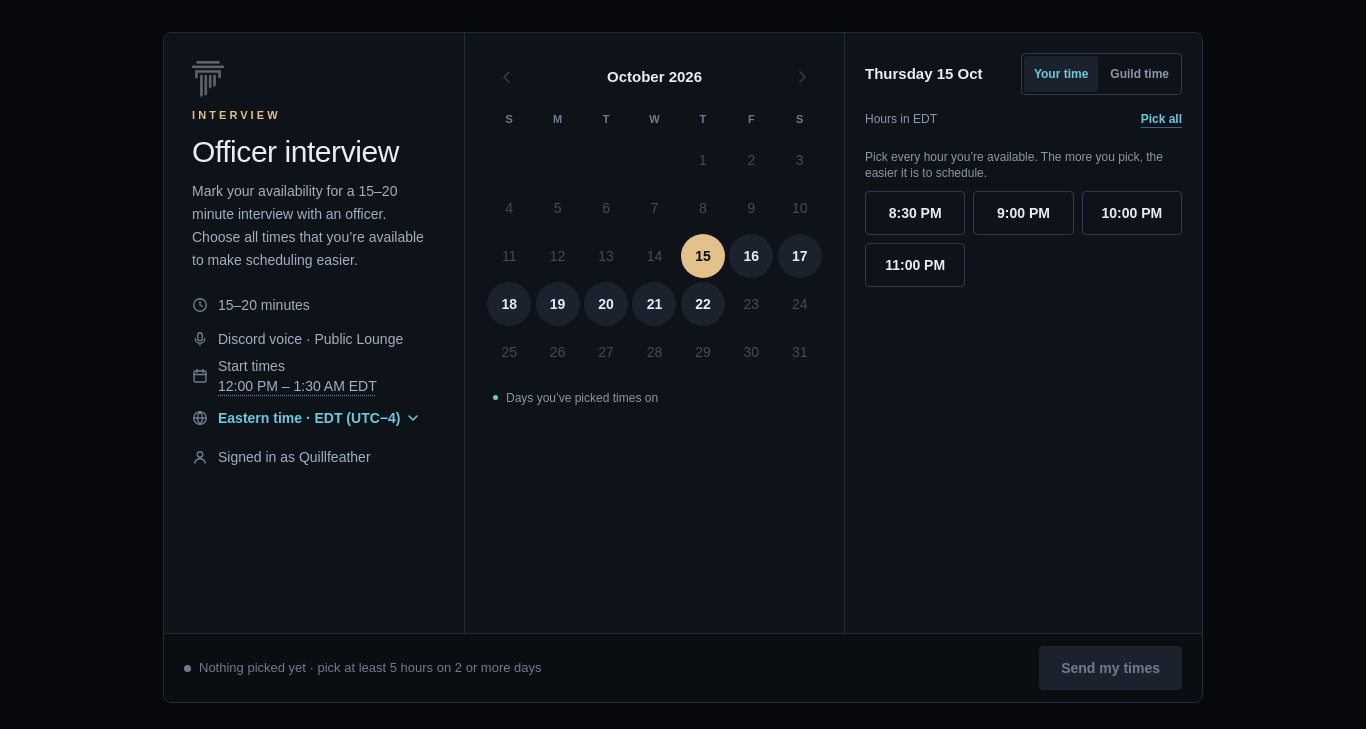
sending times › shows the notice over a fresh picker when a new attempt replaced the one the page showed
Click the button "Pick all". click: (1161, 119)
box: left=1141, top=97, right=1182, bottom=141
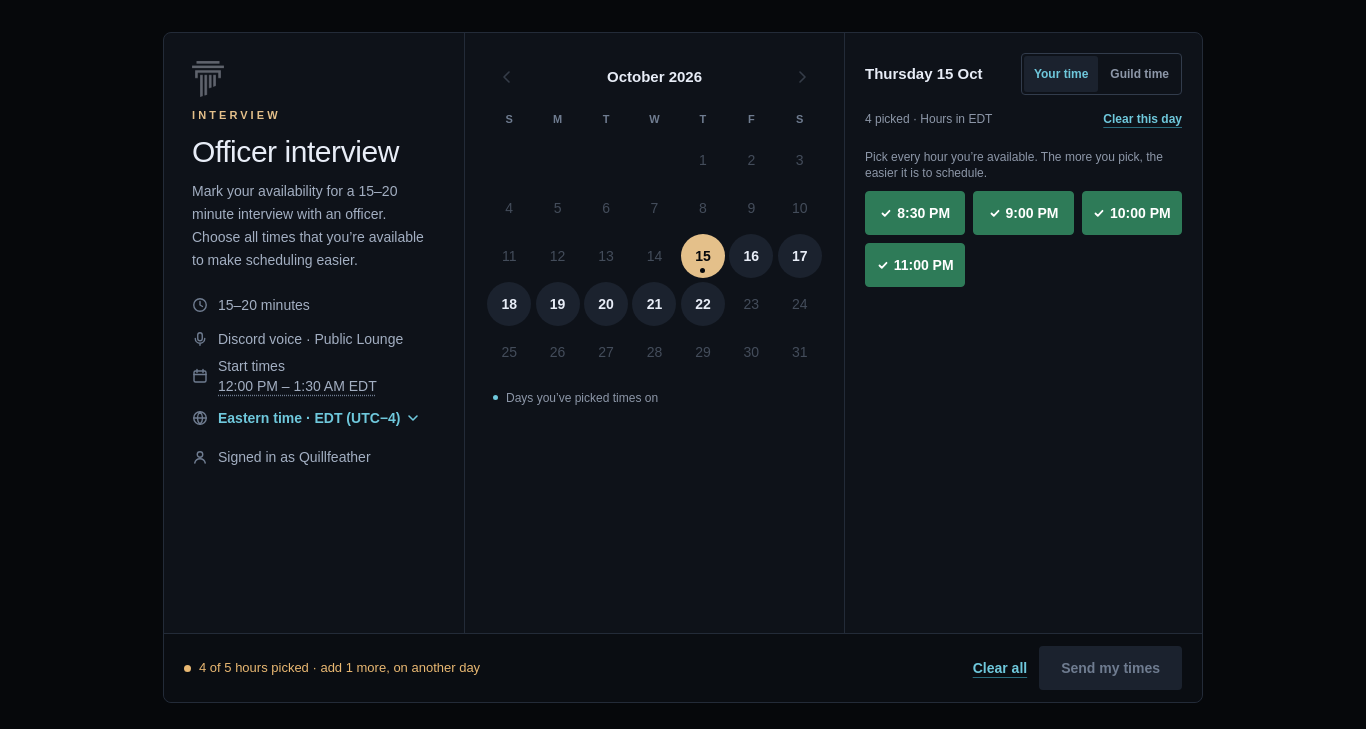
Click the button "17". click: (800, 256)
box: left=778, top=234, right=822, bottom=278
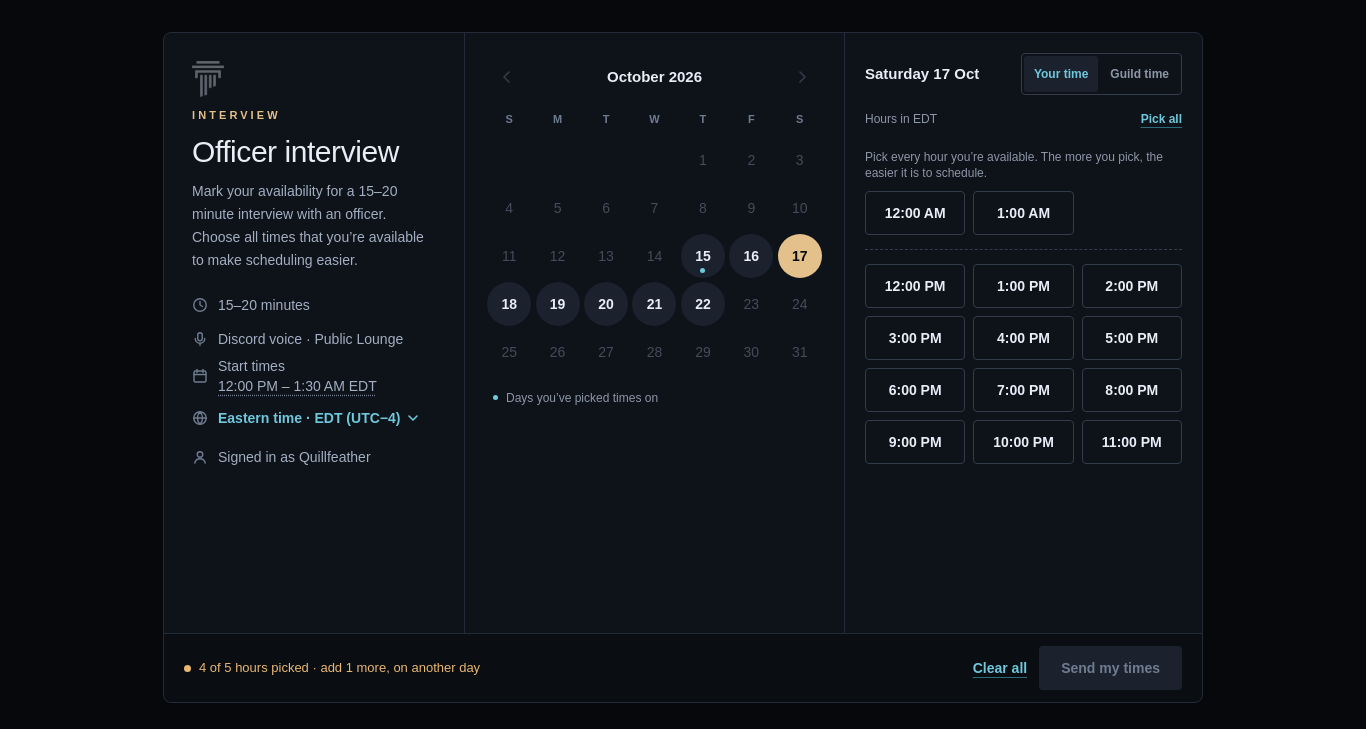
Click the button "12:00 AM". click: (915, 213)
box: left=865, top=191, right=965, bottom=235
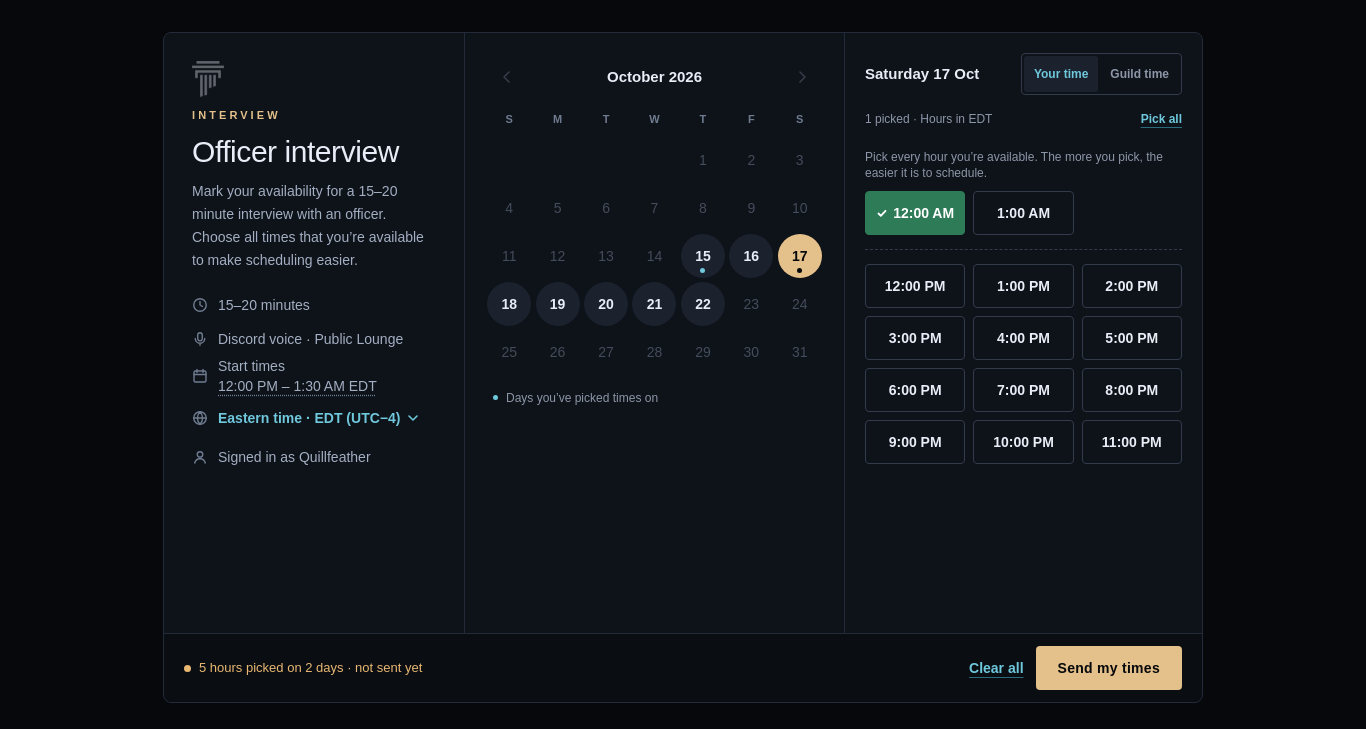
Click the button "Send my times". click: (1109, 668)
box: left=1036, top=646, right=1182, bottom=690
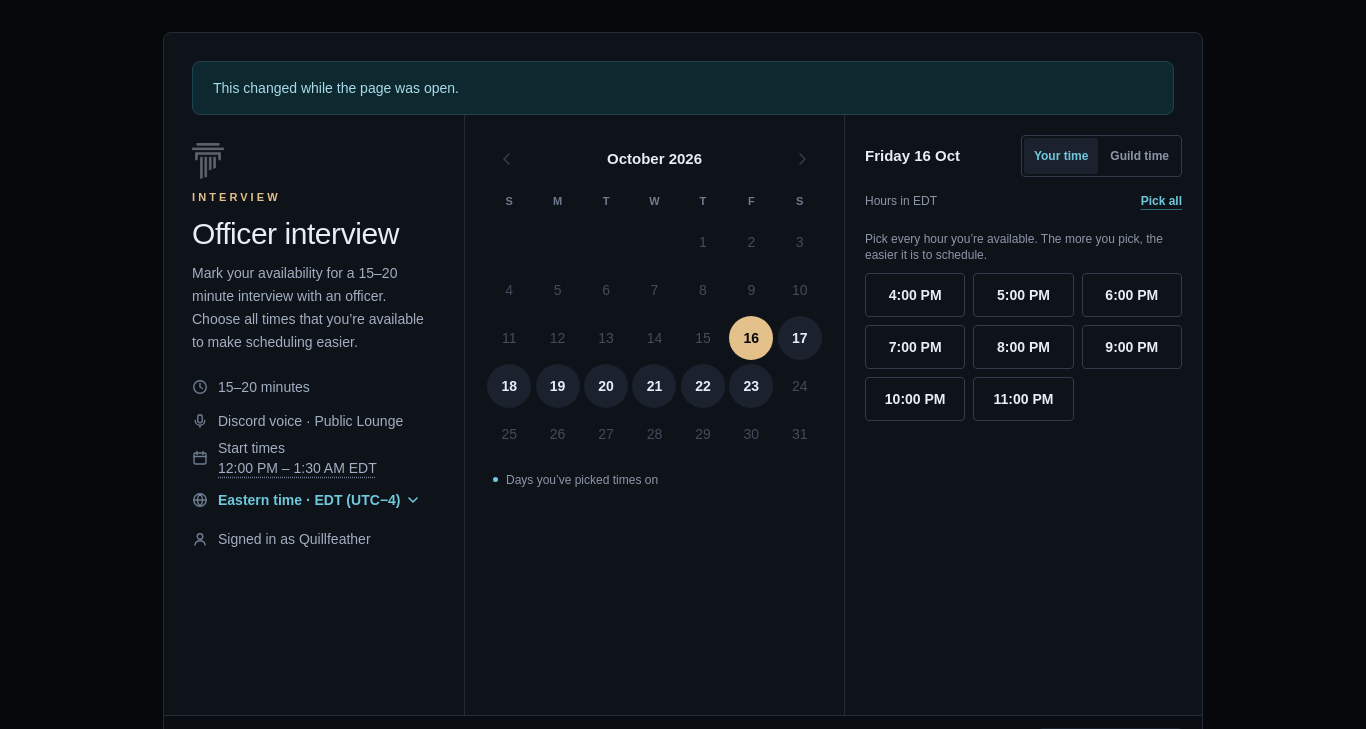
Expected: the heading "Officer interview" is shown, left=192, top=216, right=399, bottom=250
Expected: the message "This changed while the page was open." is shown, left=192, top=61, right=1174, bottom=115
